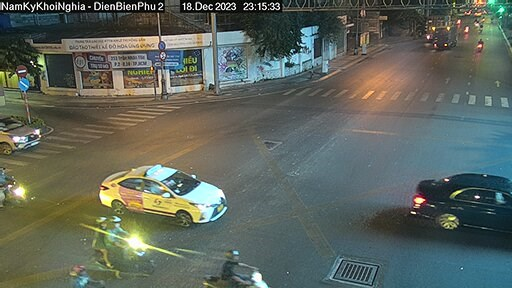car: (88, 153, 235, 227), (404, 160, 512, 236), (1, 109, 44, 158)
motorbike: (79, 212, 162, 278), (201, 242, 273, 288), (1, 164, 34, 207), (470, 35, 489, 53)
